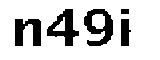4: (46, 6, 80, 51)
9: (81, 6, 114, 50)
i: (120, 7, 137, 52)
n: (7, 13, 44, 51)
